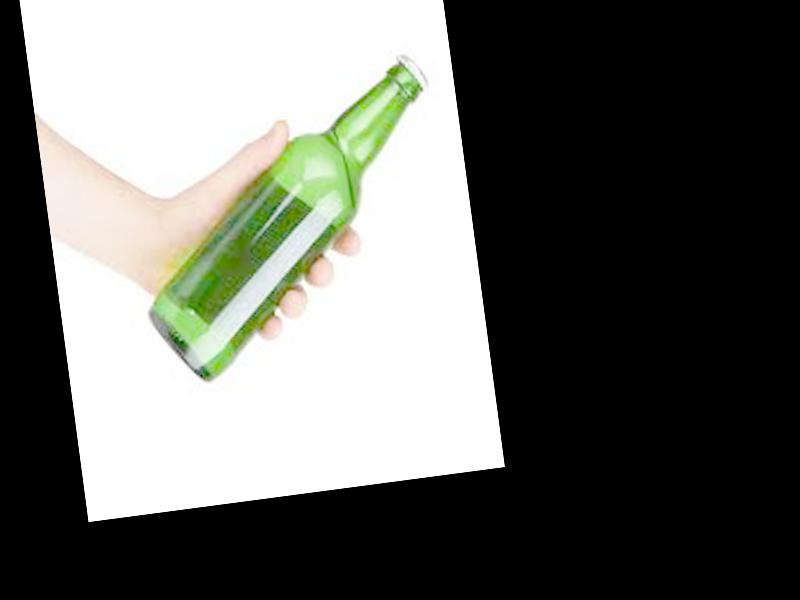Beer: (114, 51, 458, 386)
